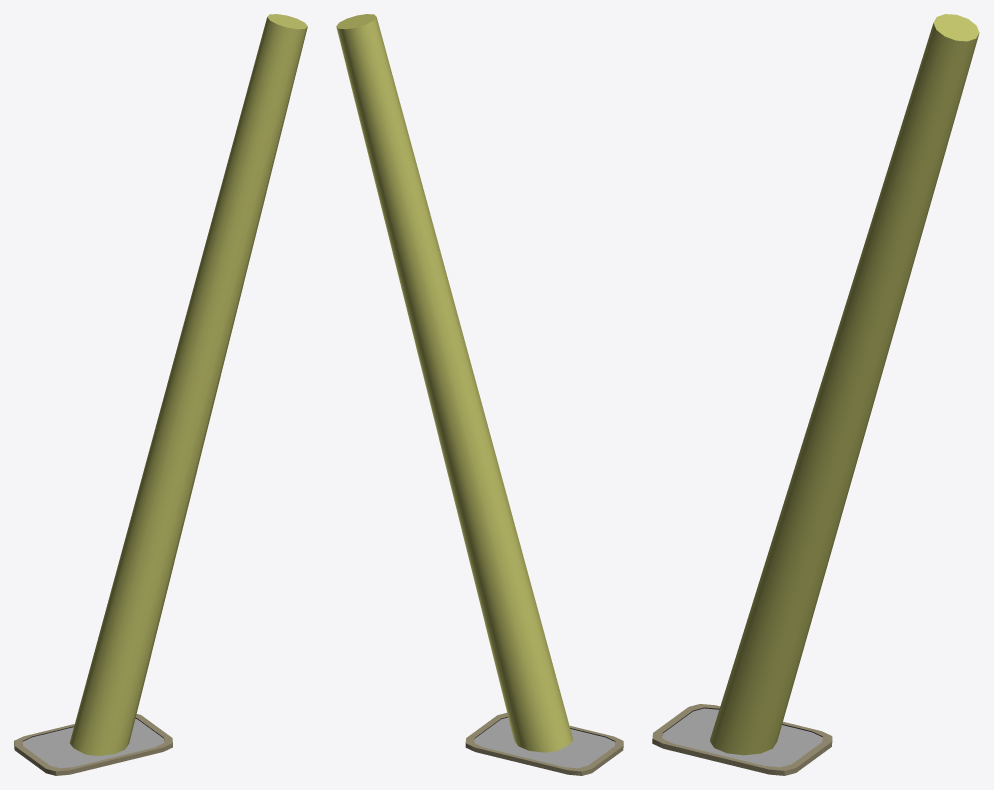
Rendered from mirror reflect.fbx.
3 views of the same model, side by side, from view 1: azimuth 30°, elevation 25°; view 2: azimuth 150°, elevation 25°; view 3: azimuth 330°, elevation 25° (orthographic). The views are drawn at different scales.
Parts seen in each view (by area): view 1: light_reflect1, mirror1; view 2: light_reflect1, mirror1; view 3: light_reflect1, mirror1.
Part boxes in pixels (left/top/right/bottom): light_reflect1: left=70, top=14, right=307, bottom=755; mirror1: left=14, top=714, right=172, bottom=775; light_reflect1: left=336, top=14, right=573, bottom=752; mirror1: left=465, top=712, right=623, bottom=775; light_reflect1: left=710, top=14, right=979, bottom=755; mirror1: left=652, top=704, right=832, bottom=775.
Size of the model in its own units: 151 by 368 by 44.52.
